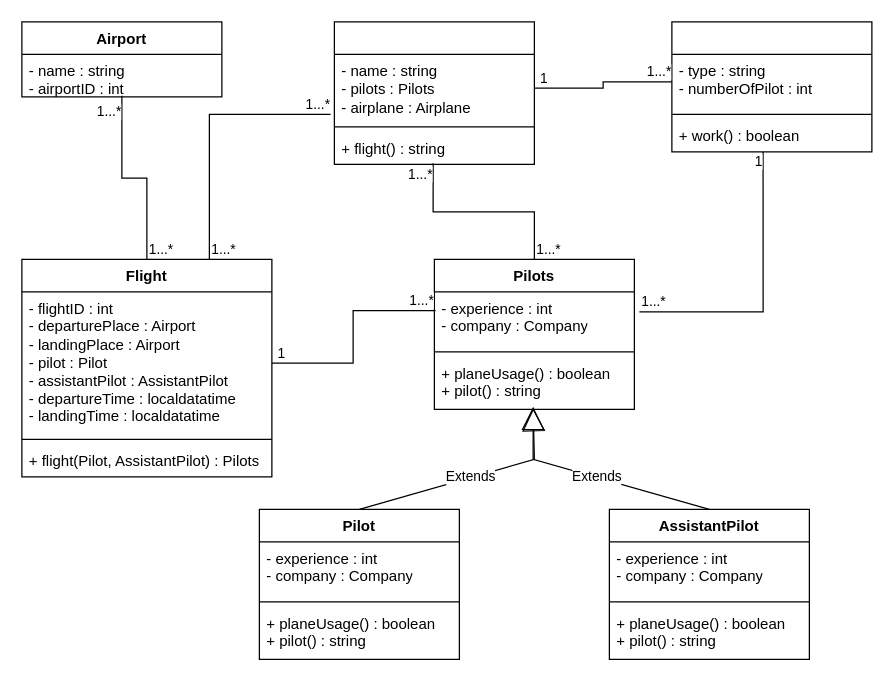
The diagram is 894 pixels wide and 685 high, and some of its shapes have lost their labels. Here are the shapes that lost their labels. From the top down, the box of each, then its label:
(333, 21, 534, 164): Company
(671, 21, 872, 152): Airplane
